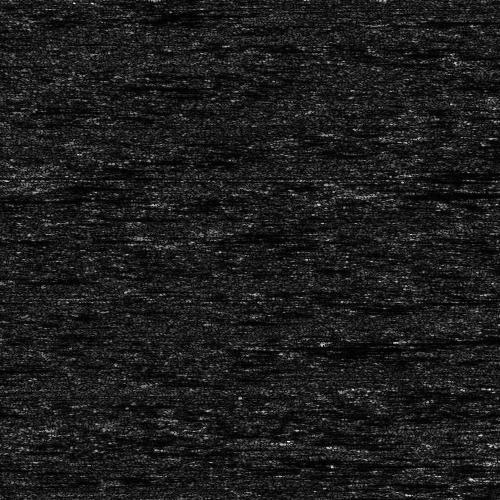object: (347, 189, 420, 198), (406, 463, 459, 472), (455, 457, 500, 466), (238, 343, 291, 346)
shadow: (0, 192, 128, 203), (384, 189, 500, 198), (265, 343, 500, 346), (433, 463, 500, 472), (0, 362, 27, 373)
